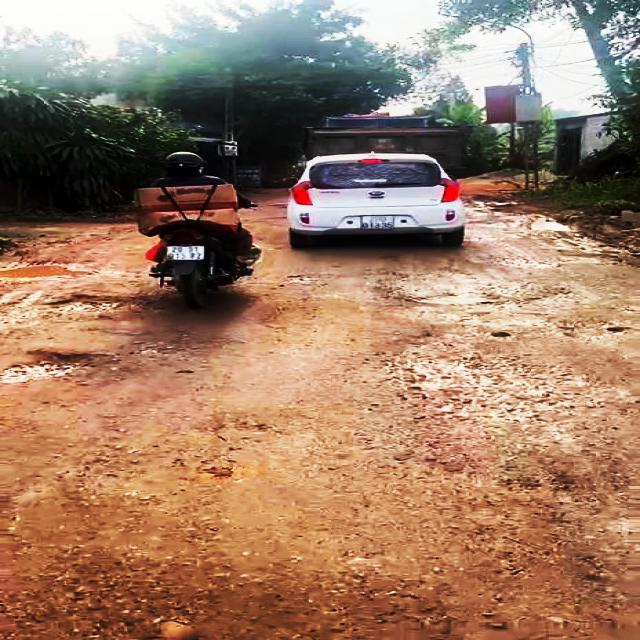pothole: (379, 346, 626, 422), (0, 344, 170, 384), (383, 275, 563, 307), (43, 292, 154, 312), (0, 259, 86, 282)
